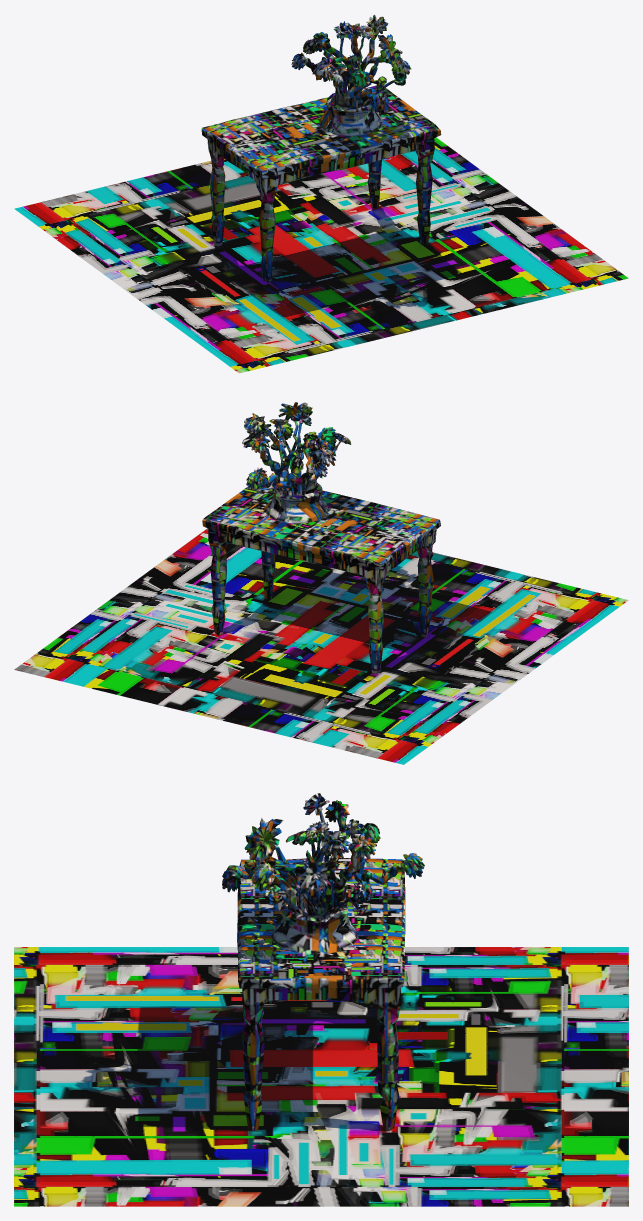
Rendered from HenriLafitLatour_scale_app.glb.
3 renders of one model, top to bottom at view 1: azimuth 30°, elevation 25°; view 2: azimuth 150°, elevation 25°; view 3: azimuth 270°, elevation 25°, orthographic. The views are drawn at different scales.
Visible parts, largest first — view 1: HeriLafitLatour; view 2: HeriLafitLatour; view 3: HeriLafitLatour.
Boxes of the visible parts, bbox=[...] form: HeriLafitLatour: bbox=[14, 14, 628, 373]; HeriLafitLatour: bbox=[14, 402, 628, 764]; HeriLafitLatour: bbox=[14, 793, 628, 1206].
Bounding box in the file's own units: 0.0153 × 0.00822 × 0.0153.
Materials: 2 (2 with a texture image).
